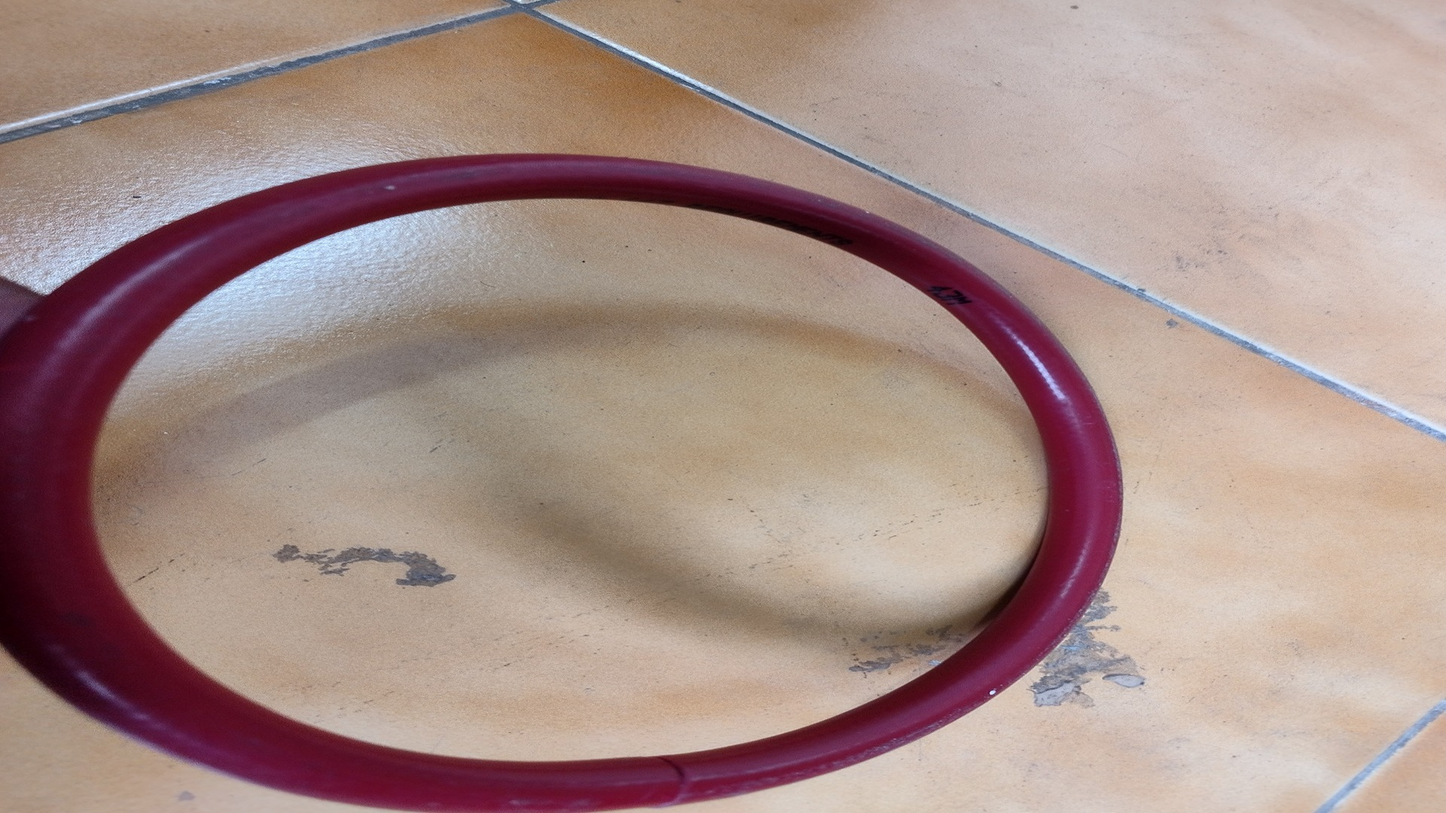Red ring: (11, 155, 1122, 813)
